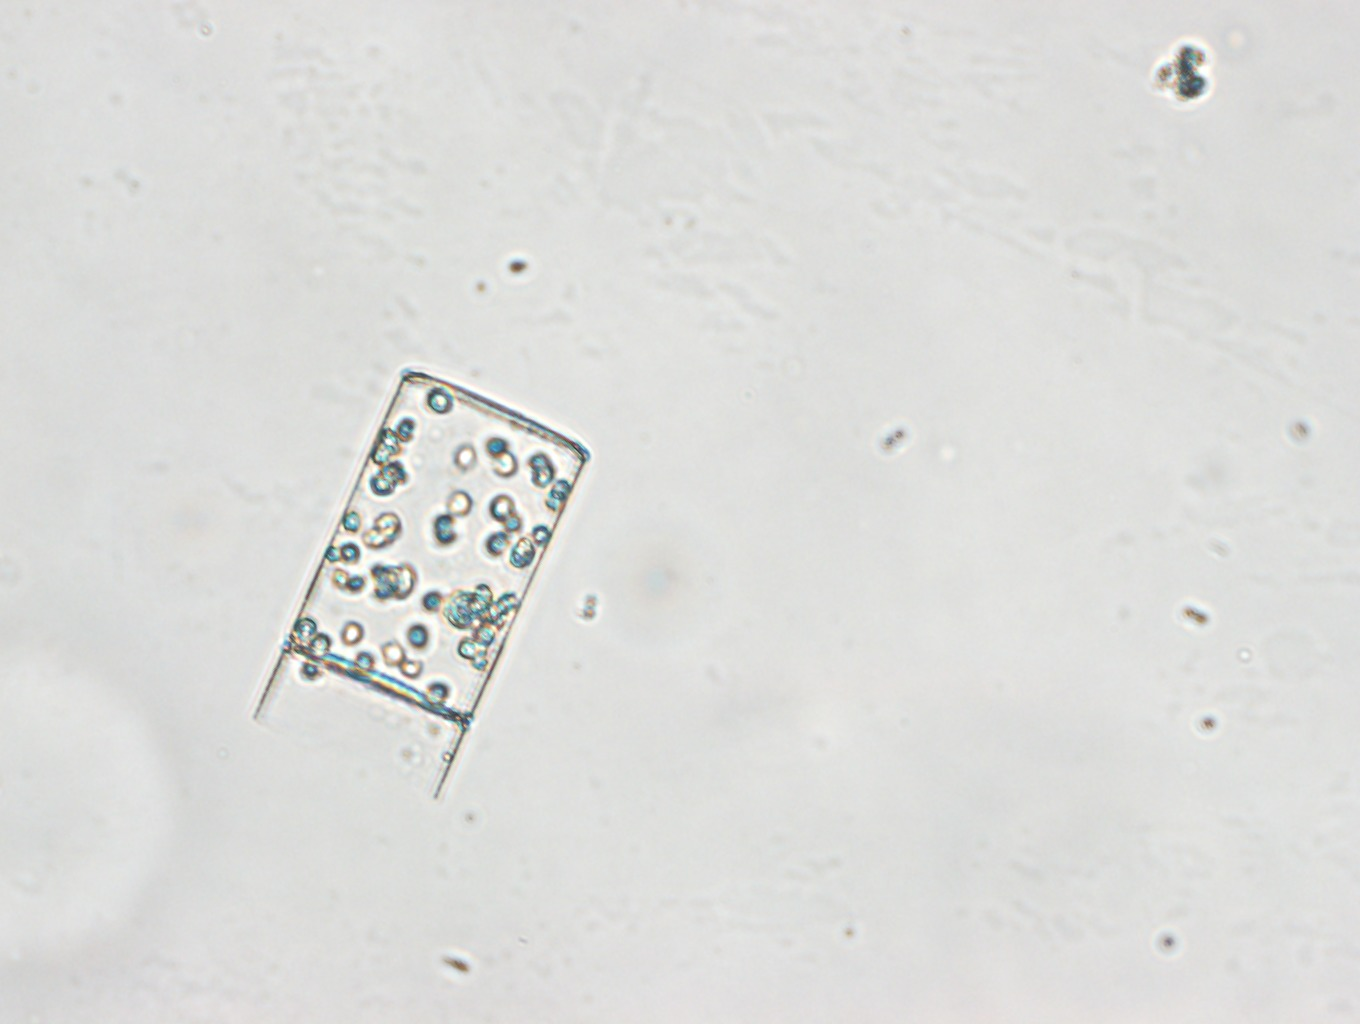guinardia flaccida: (250, 364, 590, 803)
